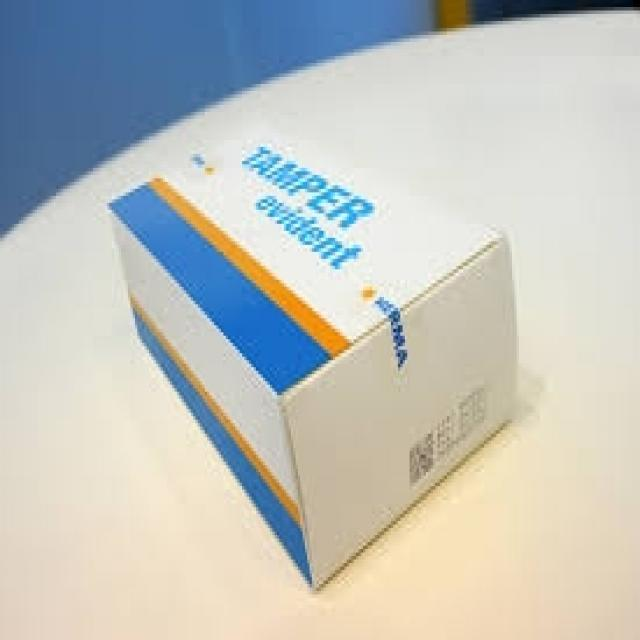Data-Matrix: (405, 423, 437, 497)
